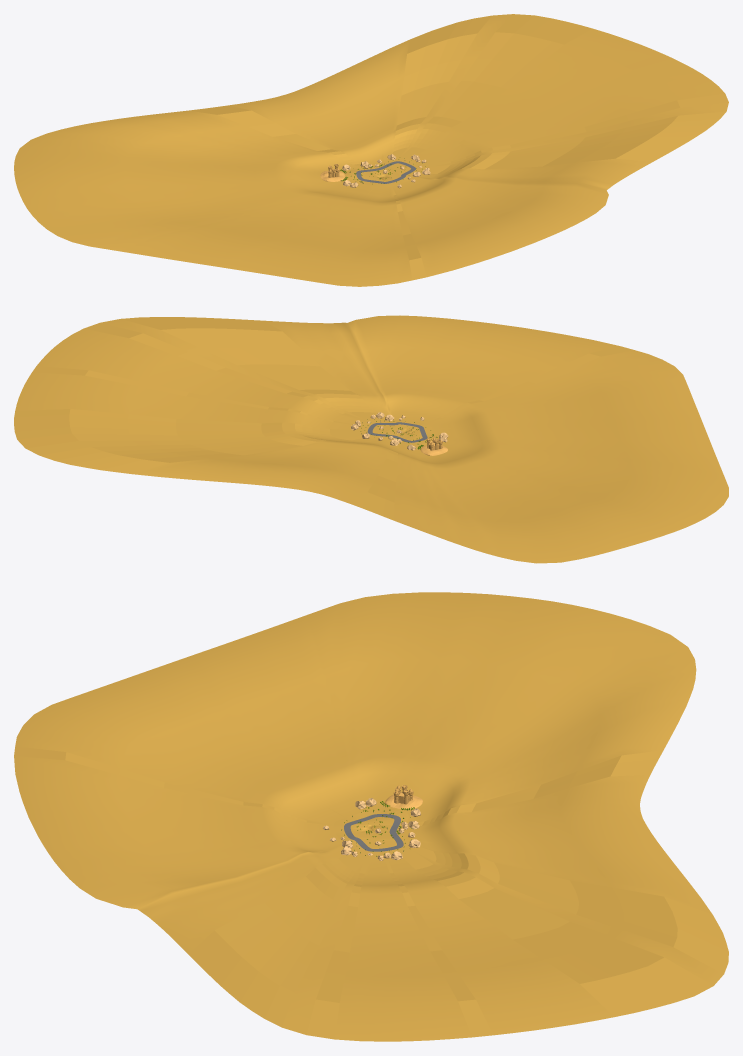
Rendered from world_2ff_base.glb.
3 views of the same model, one above another, from view 1: azimuth 30°, elevation 25°; view 2: azimuth 150°, elevation 25°; view 3: azimuth 270°, elevation 25° (orthographic). The views are drawn at different scales.
Parts seen in each view (by area): view 1: Road-outside-col, Road-inside-col; view 2: Road-outside-col, Road-inside-col; view 3: Road-outside-col, Road-inside-col, Road-col.
Boxes of the visible parts, left/top/right/bottom form: Road-outside-col: left=14, top=14, right=728, bottom=286; Road-inside-col: left=346, top=157, right=425, bottom=187; Road-outside-col: left=14, top=315, right=728, bottom=563; Road-inside-col: left=358, top=419, right=436, bottom=446; Road-outside-col: left=14, top=592, right=728, bottom=1041; Road-inside-col: left=334, top=808, right=412, bottom=857; Road-col: left=344, top=814, right=403, bottom=851.
Bounding box in the file's own units: 4002 × 114 × 2697.
5 materials, 1 textured.
